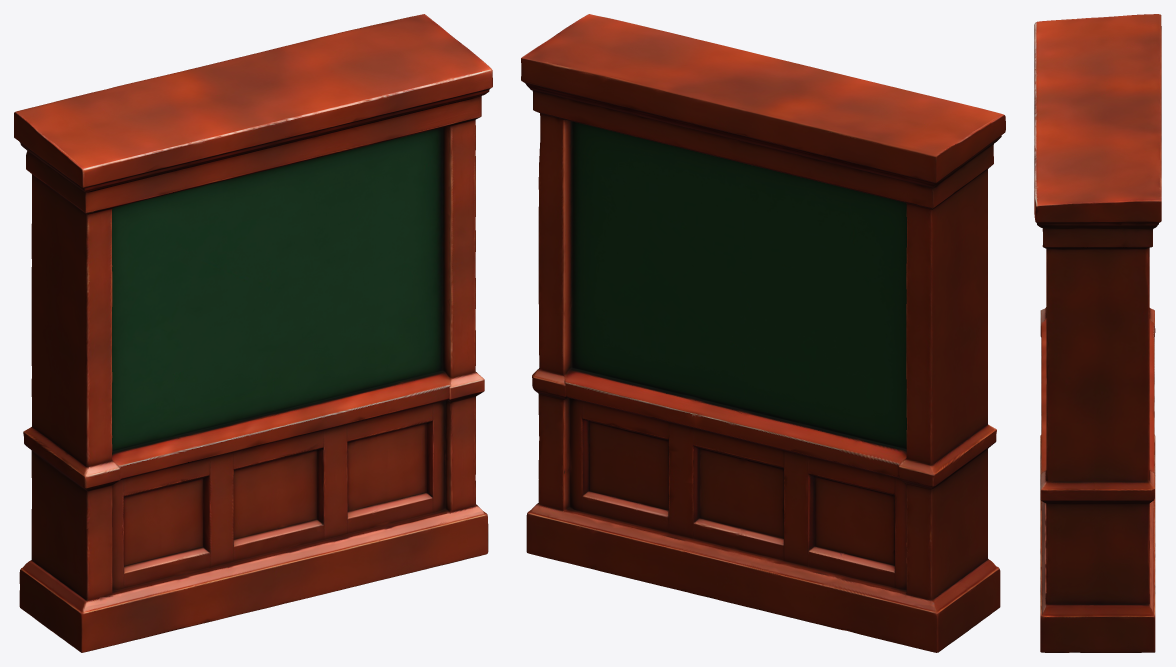
Rendered from wall-connector.glb.
The picture shows the model from 3 angles, left to right: view 1: azimuth 30°, elevation 25°; view 2: azimuth 150°, elevation 25°; view 3: azimuth 270°, elevation 25°; orthographic projection. The views are drawn at different scales.
Visible parts, largest first — view 1: tripo_node_b7f11110-8950-4a18-82ae-f83d3f236d9d; view 2: tripo_node_b7f11110-8950-4a18-82ae-f83d3f236d9d; view 3: tripo_node_b7f11110-8950-4a18-82ae-f83d3f236d9d.
Part boxes in pixels (box(x1,y1,x2,y2)): tripo_node_b7f11110-8950-4a18-82ae-f83d3f236d9d: box(14, 14, 492, 652); tripo_node_b7f11110-8950-4a18-82ae-f83d3f236d9d: box(521, 14, 1005, 652); tripo_node_b7f11110-8950-4a18-82ae-f83d3f236d9d: box(1034, 14, 1161, 652).
Bounding box in the file's own units: 0.852 × 0.9791 × 0.2482.
1 material, 1 textured.
